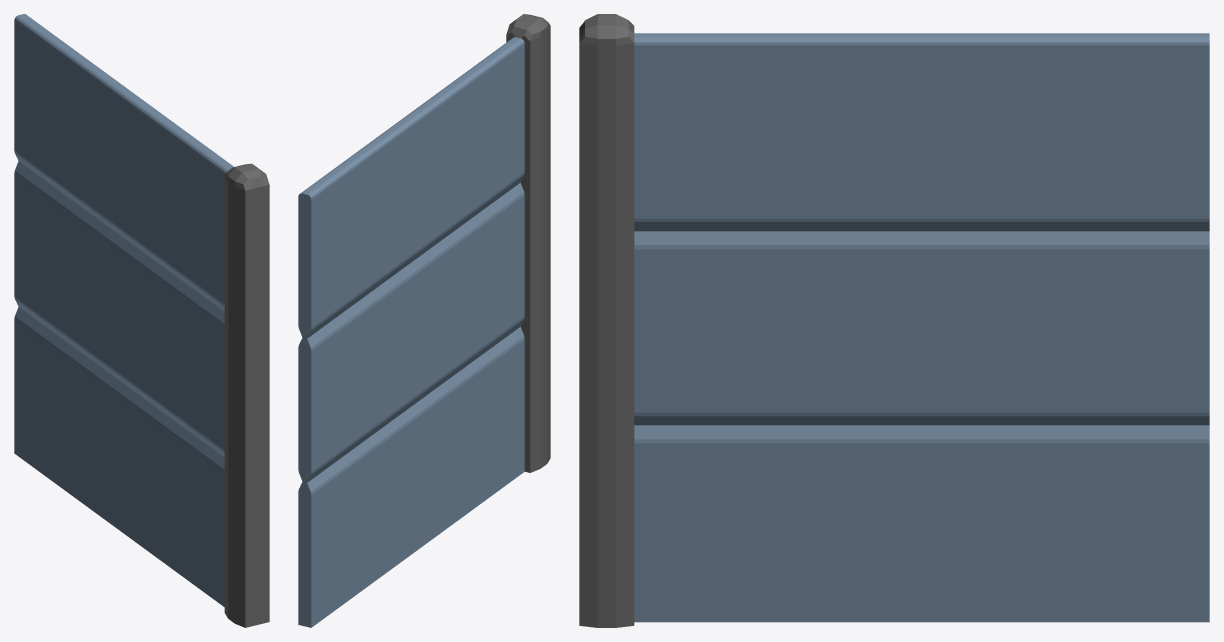
File: BasicWall2.fbx
The picture shows the model from 3 angles, left to right: view 1: azimuth 30°, elevation 25°; view 2: azimuth 150°, elevation 25°; view 3: azimuth 270°, elevation 25°; orthographic projection. The views are drawn at different scales.
Parts seen in each view (by area): view 1: Cube; view 2: Cube; view 3: Cube.
Boxes of the visible parts, bbox=[...] form: Cube: bbox=[14, 14, 269, 627]; Cube: bbox=[298, 14, 550, 627]; Cube: bbox=[579, 14, 1209, 627].
Bounding box in the file's own units: 86.67 × 1197 × 1142.
